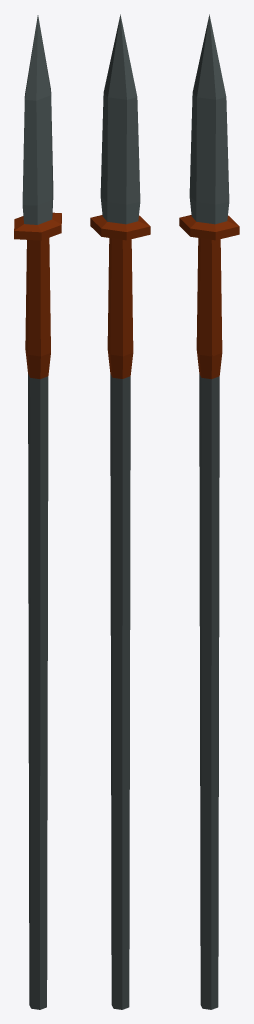
The model's file is Spear2.fbx.
3 views of the same model, side by side, from view 1: azimuth 30°, elevation 25°; view 2: azimuth 150°, elevation 25°; view 3: azimuth 330°, elevation 25° (orthographic).
Visible parts, largest first — view 1: Cylinder.013; view 2: Cylinder.013; view 3: Cylinder.013.
Part boxes in pixels (x1,y1,x2,y2): Cylinder.013: (14,15,61,1009); Cylinder.013: (90,14,150,1009); Cylinder.013: (179,14,239,1009).
Size of the model in its own units: 0.1251 by 0.0915 by 2.2.
